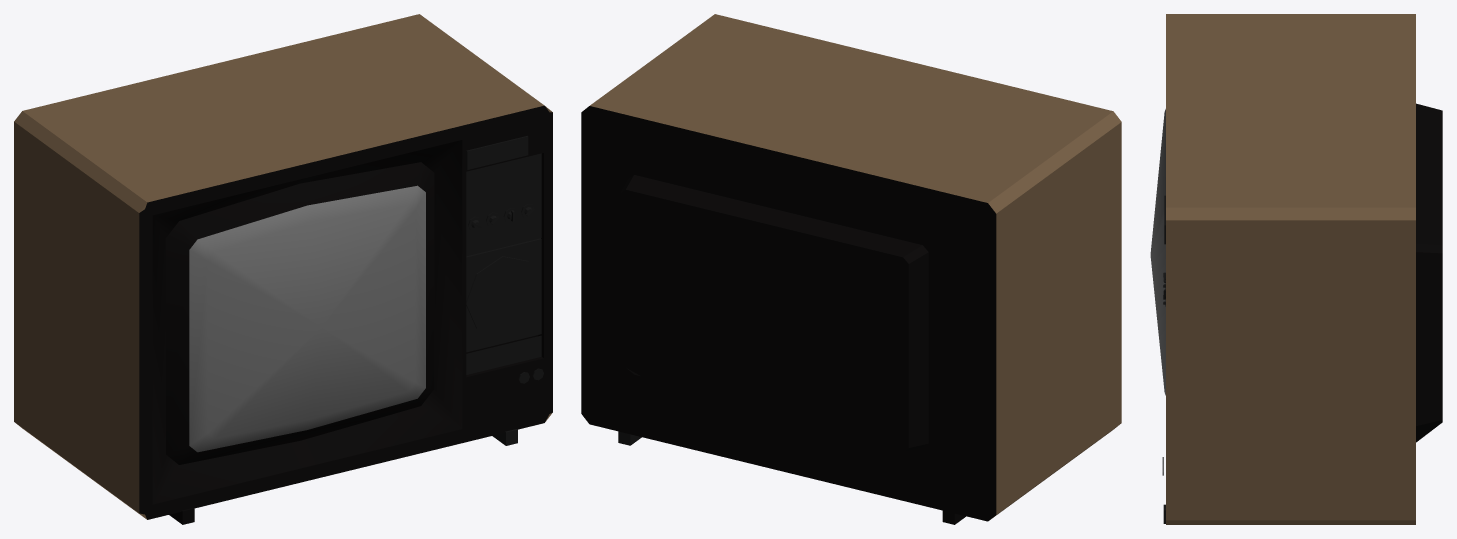
File: TV_type1.FBX
3 views of the same model, side by side, from view 1: azimuth 30°, elevation 25°; view 2: azimuth 150°, elevation 25°; view 3: azimuth 270°, elevation 25° (orthographic).
Visible parts, largest first — view 1: TV_type1_01; view 2: TV_type1_01; view 3: TV_type1_01.
Part boxes in pixels (x1,y1,x2,y2): TV_type1_01: (14, 14, 552, 524); TV_type1_01: (581, 14, 1121, 524); TV_type1_01: (1150, 14, 1442, 524).
Bounding box in the file's own units: 60 × 36.7 × 45.73.
